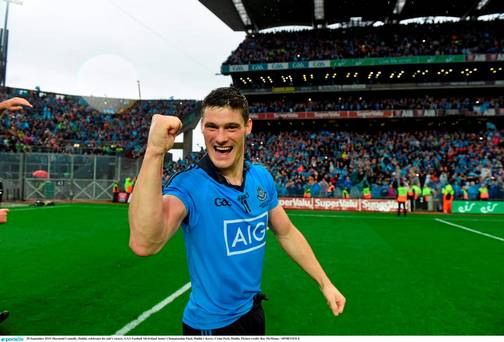player: (154, 84, 295, 320)
